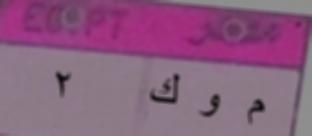2: (46, 66, 80, 103)
kaaf: (150, 67, 181, 113)
meem: (242, 91, 270, 128)
waw: (193, 87, 225, 126)
